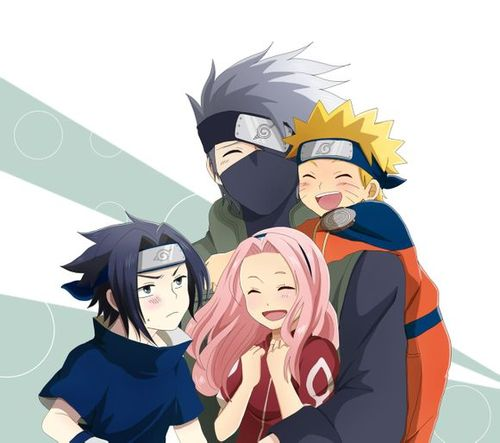kakashi: (196, 107, 298, 218)
naruto: (296, 137, 387, 214)
sakura: (236, 227, 324, 332)
sasuke: (103, 241, 194, 338)
